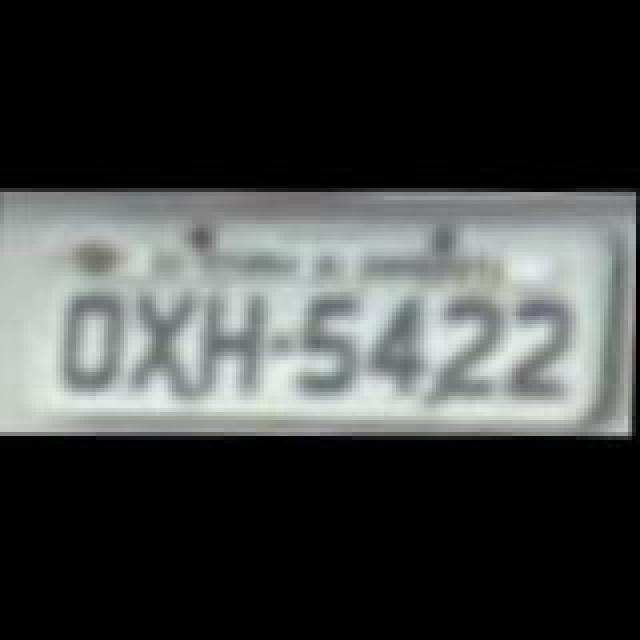2: (434, 292, 502, 404), (512, 294, 576, 406)
4: (374, 298, 434, 402)
5: (298, 298, 366, 398)
H: (200, 282, 264, 398)
O: (58, 286, 126, 398)
X: (138, 294, 190, 402)
